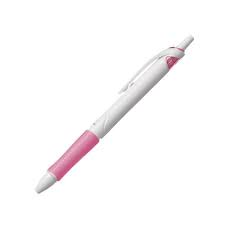pen: (34, 28, 200, 200)
